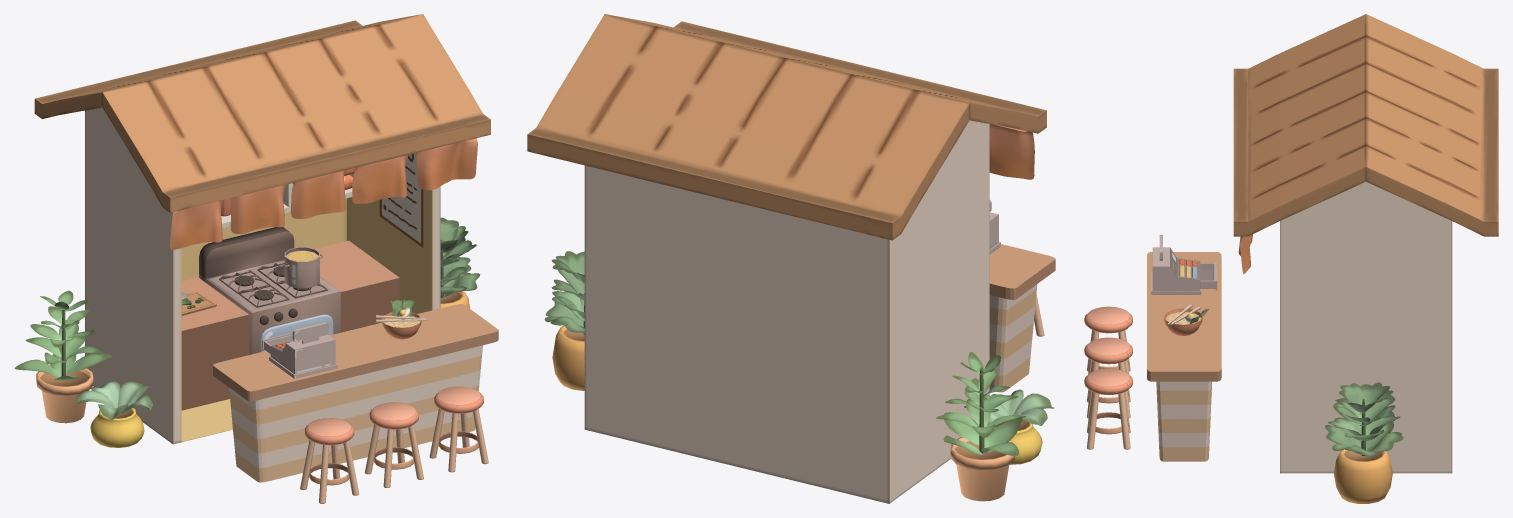
3 views of the same model, side by side, from view 1: azimuth 30°, elevation 25°; view 2: azimuth 150°, elevation 25°; view 3: azimuth 270°, elevation 25° (orthographic). The views are drawn at different scales.
Visible parts, largest first — view 1: Puesto, Mesa, Banderines, Barra, Estufa, Maseta_02, Maseta_01, Caja_Registradora, Silla.002, Silla, Silla.001, Maseta_03 (+3 smaller); view 2: Puesto, Maseta_02, Mesa, Maseta_03, Maseta_01, Banderines; view 3: Puesto, Mesa, Maseta_03, Caja_Registradora, Silla, Silla.002, Silla.001, Plato.
Boxes of the visible parts, <box> form: Puesto: <box>34,14,490,444</box>; Mesa: <box>213,304,498,482</box>; Banderines: <box>169,138,477,249</box>; Barra: <box>181,240,399,410</box>; Estufa: <box>199,227,340,354</box>; Maseta_02: <box>14,290,111,423</box>; Maseta_01: <box>76,381,152,447</box>; Caja_Registradora: <box>262,322,337,378</box>; Silla.002: <box>364,402,423,487</box>; Silla: <box>429,386,488,472</box>; Silla.001: <box>300,418,359,503</box>; Maseta_03: <box>440,217,480,308</box>; Puesto: <box>527,14,1046,503</box>; Maseta_02: <box>936,351,1025,501</box>; Mesa: <box>989,244,1055,392</box>; Maseta_03: <box>544,251,584,390</box>; Maseta_01: <box>964,389,1054,464</box>; Banderines: <box>989,124,1034,179</box>; Puesto: <box>1233,14,1498,473</box>; Mesa: <box>1147,252,1221,461</box>; Maseta_03: <box>1325,382,1403,503</box>; Caja_Registradora: <box>1151,235,1216,294</box>; Silla: <box>1084,368,1132,449</box>; Silla.002: <box>1084,337,1132,418</box>; Silla.001: <box>1084,306,1132,374</box>; Plato: <box>1163,308,1202,336</box>.
Size of the model in its own units: 15.18 by 10.89 by 12.81.
29 materials, 29 textured.
